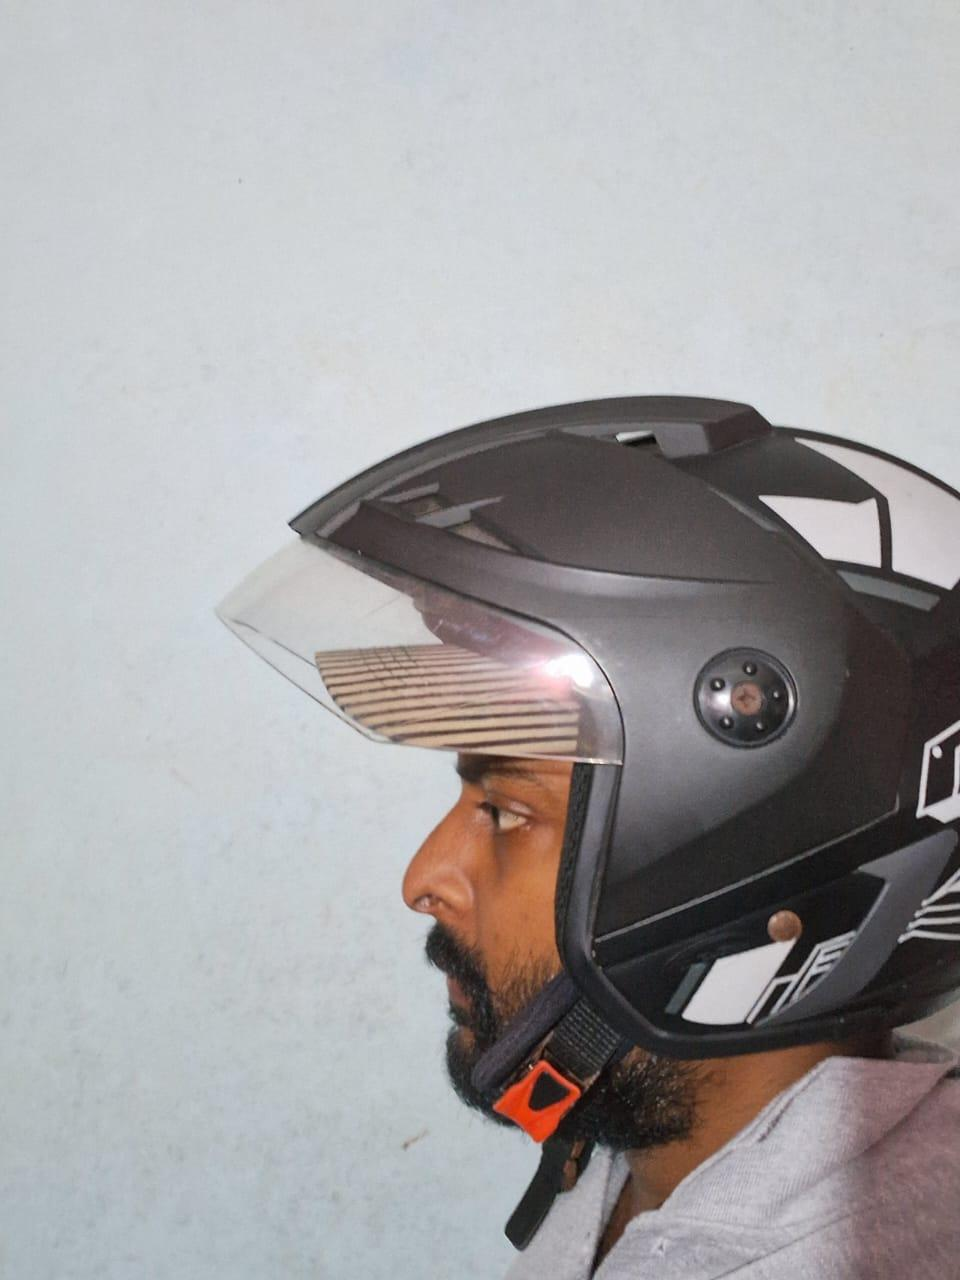helmet: (213, 390, 959, 1064)
